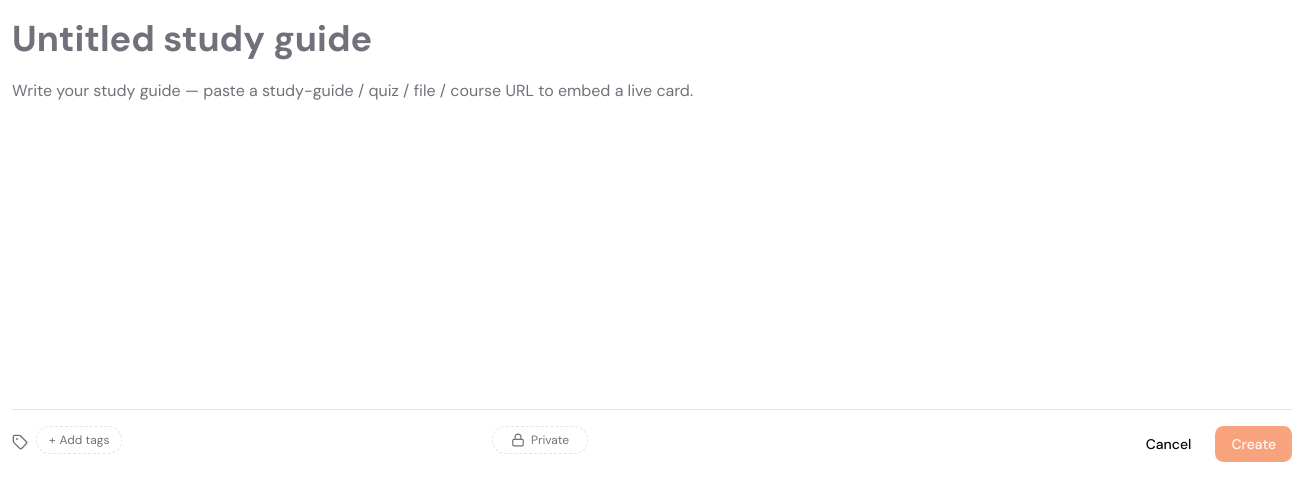
Scenario: StudyGuideForm / tag chips › removes a chip when its X is clicked
Click the button "+ Add tags" at (79, 440), box [36, 426, 122, 454]
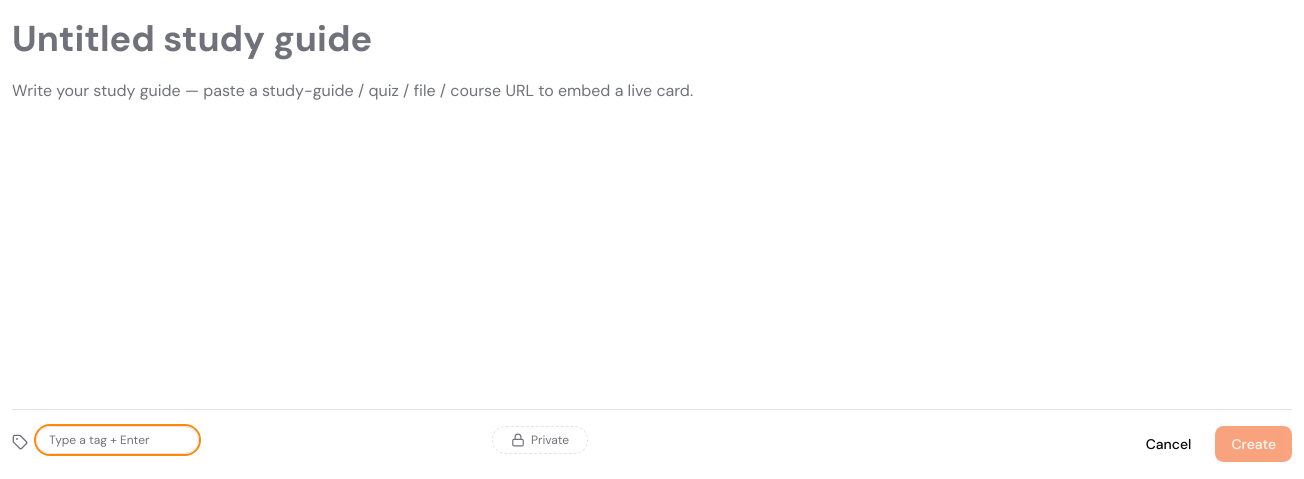
Type "midterm" into the field named "new tag" at (118, 440), box [36, 426, 199, 454]
Then press Enter
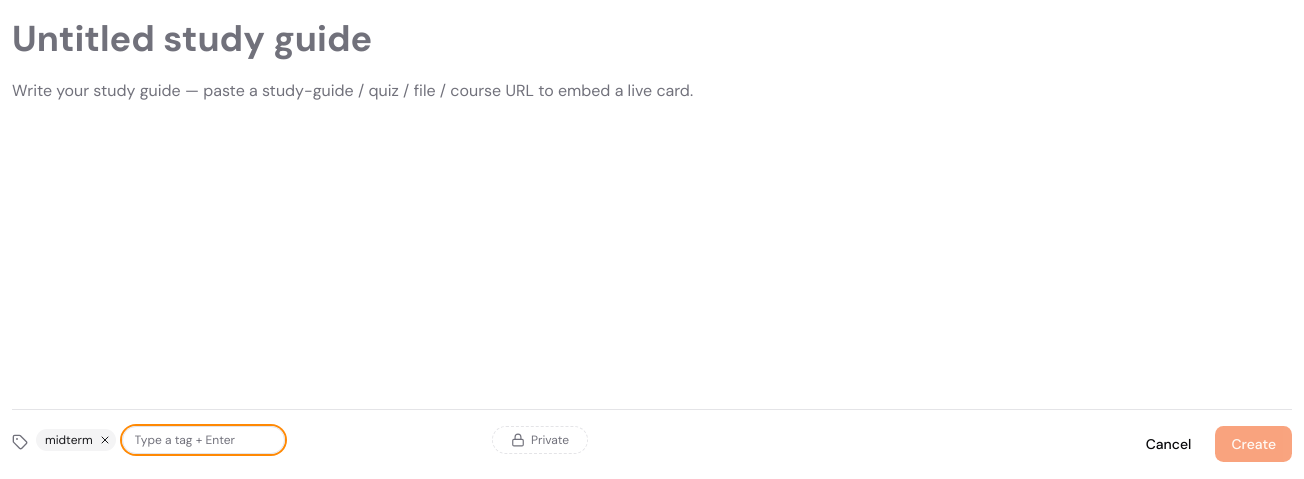
Type "concurrency" into the field named "new tag" at (203, 440), box [122, 426, 285, 454]
Then press Enter
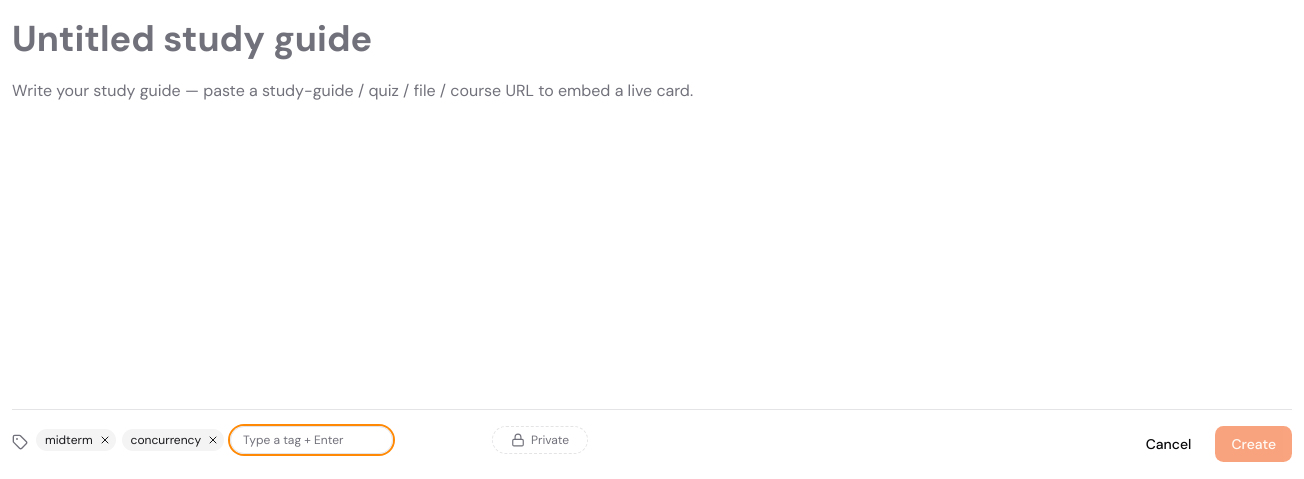
Click the button named "remove midterm" at (105, 440), box [97, 432, 113, 448]
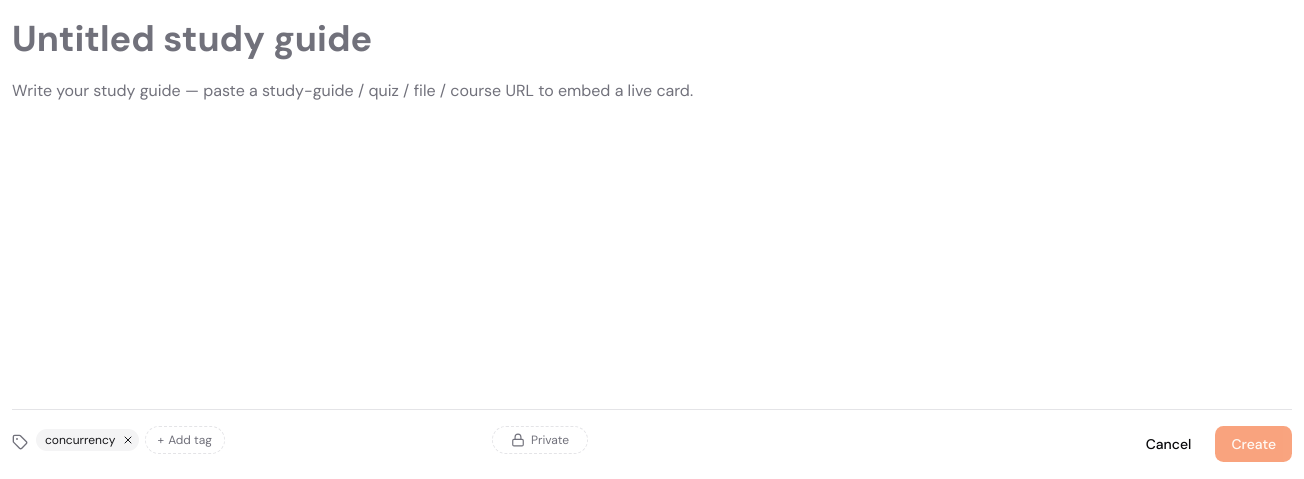
Expected: the text "concurrency" is shown, [36, 429, 138, 451]
Expected: the text "midterm" is gone
